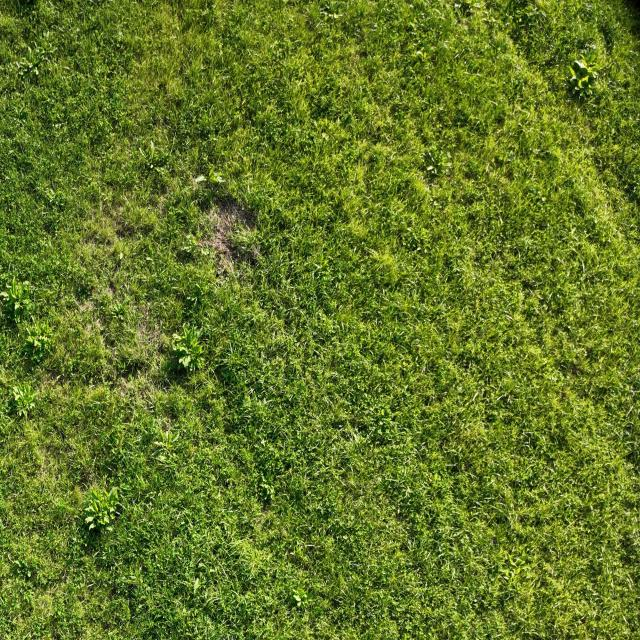rumex: (305, 460, 429, 634), (431, 347, 545, 503), (426, 250, 534, 396), (537, 346, 635, 494), (126, 414, 220, 520), (134, 480, 223, 580), (315, 404, 393, 514), (575, 184, 639, 303), (83, 12, 138, 84), (440, 0, 513, 51), (154, 0, 218, 52), (177, 269, 216, 315), (100, 420, 134, 467), (14, 43, 54, 80), (2, 274, 34, 320), (138, 135, 172, 175), (314, 1, 356, 32), (505, 540, 532, 579), (11, 381, 38, 417), (177, 232, 205, 264), (8, 552, 39, 578), (424, 146, 452, 174), (449, 1, 481, 25), (370, 402, 394, 426), (289, 587, 309, 612), (259, 476, 277, 503), (118, 570, 140, 588), (9, 278, 24, 304), (579, 48, 598, 68), (206, 164, 224, 184), (159, 428, 175, 450), (43, 186, 60, 205), (515, 7, 540, 19), (178, 352, 196, 368), (111, 305, 127, 322), (113, 30, 124, 48), (544, 176, 554, 194), (108, 486, 118, 504), (171, 332, 184, 345), (150, 446, 164, 458), (290, 126, 303, 138), (386, 150, 397, 164), (376, 353, 386, 368), (188, 359, 198, 374), (193, 327, 205, 339), (16, 62, 29, 73), (181, 243, 193, 254), (148, 140, 155, 158), (21, 280, 31, 292), (156, 454, 168, 464), (327, 370, 339, 380), (12, 386, 22, 398), (33, 338, 42, 351), (186, 293, 197, 303), (513, 103, 523, 114), (193, 176, 206, 184), (0, 291, 10, 301), (100, 513, 109, 524), (320, 8, 332, 16), (26, 46, 34, 58), (453, 50, 462, 60), (87, 522, 96, 532), (84, 515, 94, 524), (295, 79, 303, 90), (472, 390, 479, 402), (407, 22, 416, 31), (105, 525, 114, 534), (321, 132, 329, 142), (578, 88, 586, 98), (488, 18, 499, 25), (485, 164, 492, 175), (260, 438, 267, 448), (416, 50, 423, 59), (426, 165, 435, 172), (474, 2, 483, 9), (139, 147, 145, 157), (570, 226, 576, 236), (56, 374, 62, 384), (145, 255, 153, 262), (370, 24, 378, 31), (247, 183, 252, 194), (118, 253, 124, 262), (498, 216, 504, 225), (336, 116, 341, 126), (457, 385, 463, 393), (422, 364, 427, 373), (312, 270, 316, 281), (540, 196, 546, 203), (412, 42, 419, 48), (589, 44, 596, 50), (454, 2, 461, 8), (587, 86, 592, 94), (382, 287, 386, 297), (518, 17, 524, 23), (442, 42, 448, 48), (359, 85, 363, 93), (222, 75, 228, 80)
